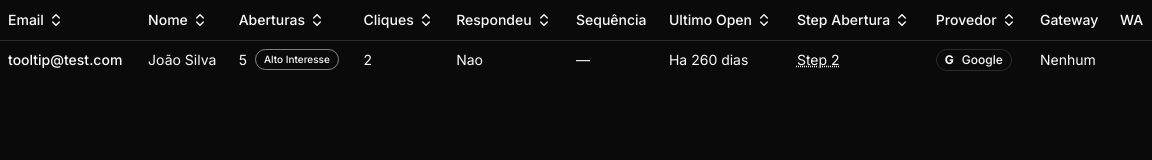
Test: LeadTrackingTable › step tooltip (Story 14.6 AC #1, #4) › exibe tooltip com subject ao hover em 'Step N' quando stepsMap disponivel
Hover over the text with test id "step-click-trigger" at (818, 59), box top-left (797, 50), bottom-right (840, 68)
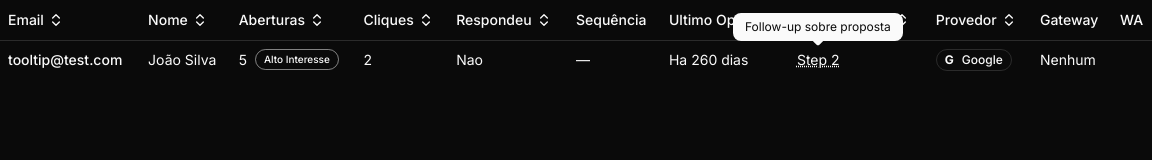
Expected: the tooltip reads "Follow-up sobre proposta", top-left (745, 19), bottom-right (891, 34)
